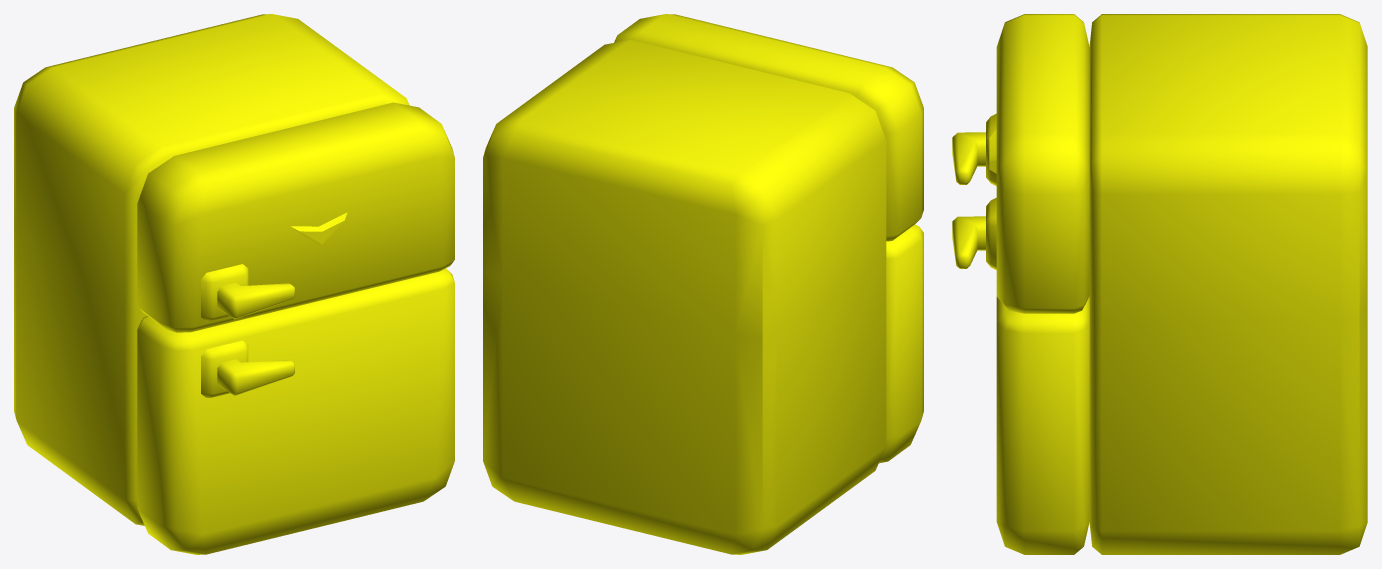
Rendered from fridge_A.gltf.
3 views of the same model, side by side, from view 1: azimuth 30°, elevation 25°; view 2: azimuth 150°, elevation 25°; view 3: azimuth 270°, elevation 25° (orthographic). The views are drawn at different scales.
Visible parts, largest first — view 1: fridge_A, fridge_A_door_bottom, fridge_A_door_top; view 2: fridge_A, fridge_A_door_top, fridge_A_door_bottom; view 3: fridge_A, fridge_A_door_top, fridge_A_door_bottom.
Boxes of the visible parts, box(x1,y1,x2,y2) form: fridge_A: box(14, 14, 409, 525); fridge_A_door_bottom: box(137, 268, 454, 554); fridge_A_door_top: box(137, 102, 454, 332); fridge_A: box(483, 39, 886, 554); fridge_A_door_top: box(614, 14, 923, 241); fridge_A_door_bottom: box(879, 224, 923, 463); fridge_A: box(1089, 14, 1367, 554); fridge_A_door_top: box(952, 14, 1089, 313); fridge_A_door_bottom: box(952, 197, 1089, 554).
Bounding box in the file's own units: 2 × 2.5 × 2.24.
1 material, 1 textured.
